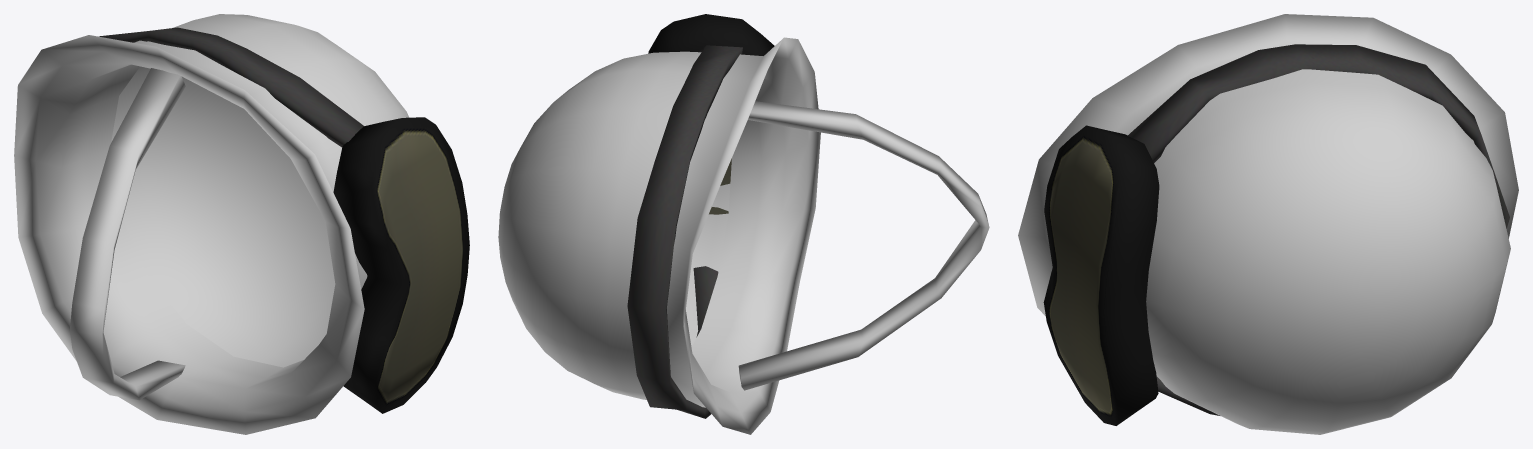
File: M1HelmetGoggles.fbx
3 views of the same model, side by side, from view 1: azimuth 30°, elevation 25°; view 2: azimuth 150°, elevation 25°; view 3: azimuth 270°, elevation 25° (orthographic). The views are drawn at different scales.
Parts seen in each view (by area): view 1: Cube.002; view 2: Cube.002; view 3: Cube.002.
Part boxes in pixels (x1,y1,x2,y2): Cube.002: (14, 14, 469, 434); Cube.002: (498, 14, 989, 434); Cube.002: (1018, 14, 1518, 434).
Bounding box in the file's own units: 0.1941 × 0.165 × 0.2008.
